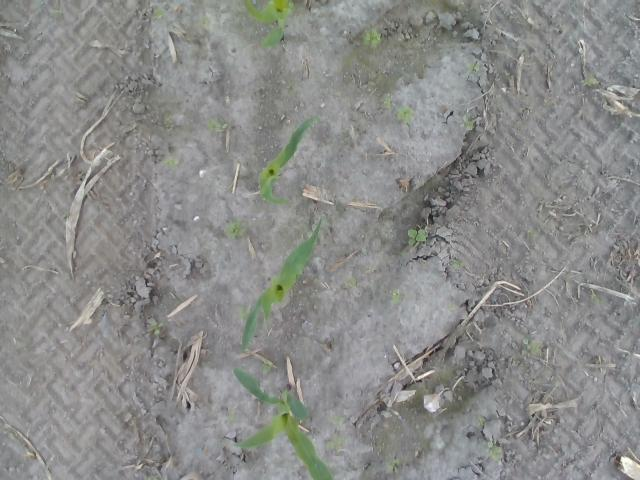Maize: (221, 366, 338, 480), (242, 219, 324, 354), (256, 116, 322, 204), (248, 1, 294, 50)
Weeds: (521, 338, 540, 359), (226, 219, 246, 237), (328, 434, 344, 454), (360, 30, 380, 46), (408, 230, 428, 246), (396, 108, 414, 125), (209, 118, 229, 132), (488, 442, 502, 460), (148, 320, 164, 335), (388, 459, 401, 474), (582, 76, 599, 86), (263, 360, 275, 374), (464, 116, 475, 130), (344, 278, 356, 290), (468, 61, 478, 74), (331, 416, 344, 426), (392, 290, 402, 303), (451, 258, 464, 267), (166, 157, 178, 166), (155, 10, 164, 20), (480, 416, 486, 429), (48, 8, 63, 13), (591, 290, 596, 300)
